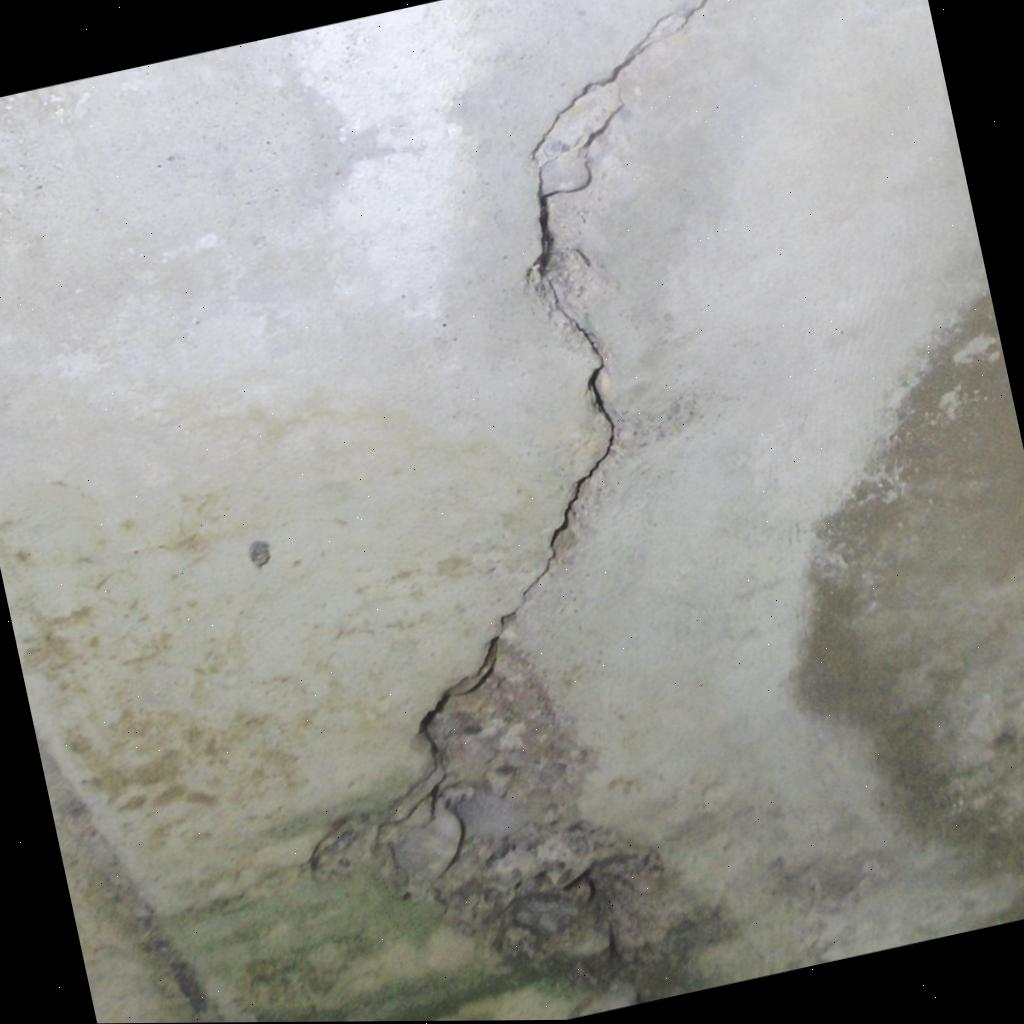spalling: (375, 646, 692, 1002)
